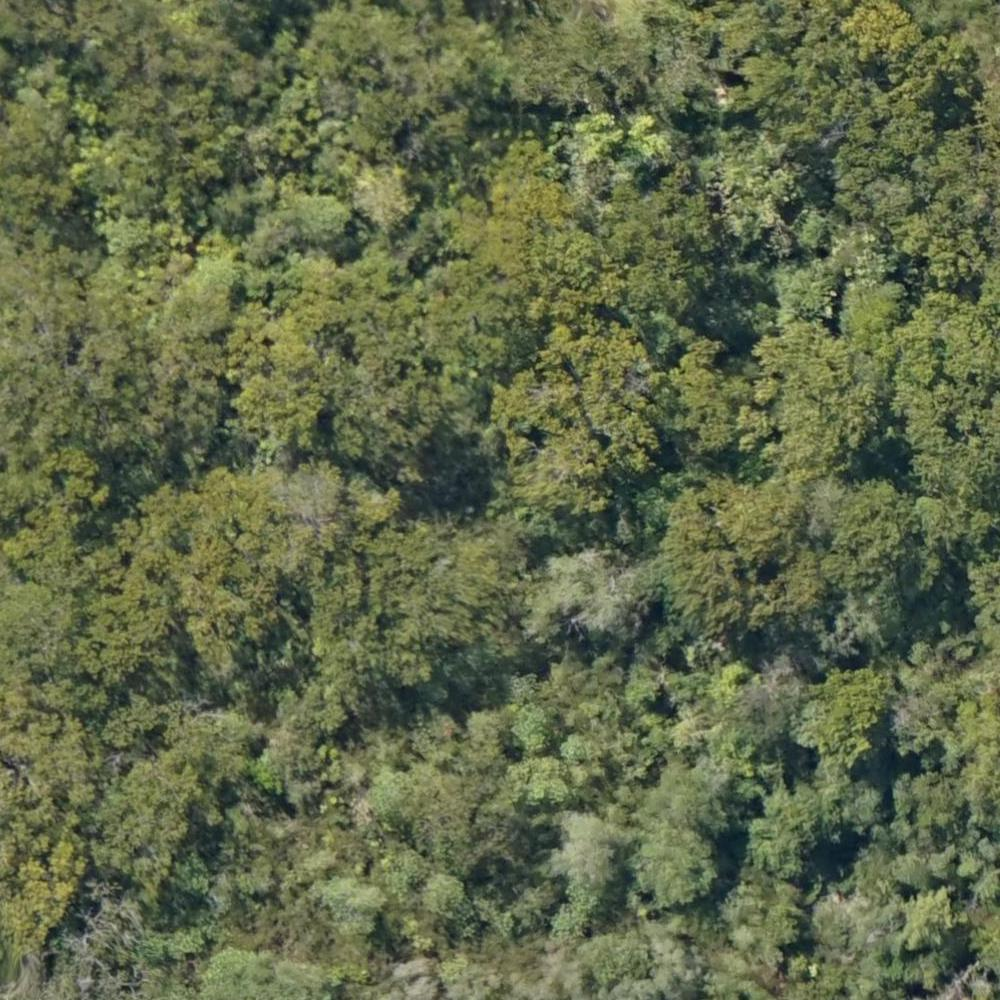tree: (819, 664, 899, 760), (719, 481, 804, 565), (242, 379, 325, 450), (643, 831, 719, 904), (533, 227, 607, 297), (841, 1, 921, 64), (838, 278, 912, 346), (561, 807, 625, 884), (353, 166, 424, 233), (312, 872, 383, 935), (179, 575, 246, 641), (367, 763, 432, 828), (586, 928, 654, 990), (751, 816, 810, 887), (290, 182, 347, 253), (893, 891, 956, 953), (579, 571, 642, 631), (630, 261, 688, 321), (510, 699, 557, 761), (510, 755, 562, 811), (411, 874, 471, 922), (915, 494, 963, 549), (576, 115, 624, 163), (104, 212, 149, 253), (765, 909, 810, 949), (553, 904, 593, 943), (564, 728, 602, 767), (466, 705, 501, 745), (799, 212, 835, 250), (898, 852, 927, 892)
